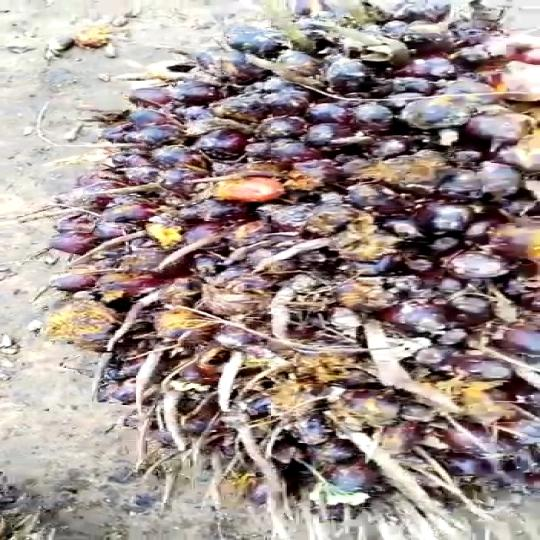mentah: (52, 0, 540, 527)
